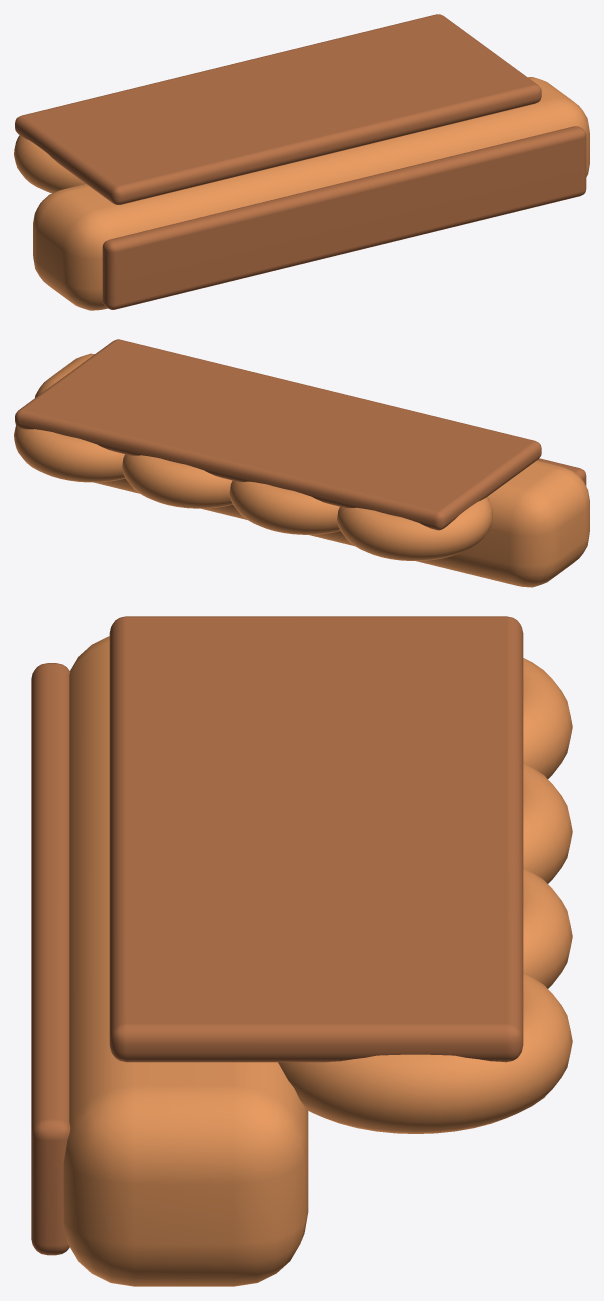
The model's file is Knuckles_Bronze.glb.
3 views of the same model, one above another, from view 1: azimuth 30°, elevation 25°; view 2: azimuth 150°, elevation 25°; view 3: azimuth 270°, elevation 25° (orthographic). The views are drawn at different scales.
Visible parts, largest first — view 1: Bronze_CopperDark, Bronze_Copper; view 2: Bronze_CopperDark, Bronze_Copper; view 3: Bronze_CopperDark, Bronze_Copper.
Part boxes in pixels (box(x1,y1,x2,y2)): Bronze_CopperDark: box(15, 14, 586, 309); Bronze_Copper: box(14, 77, 589, 310); Bronze_CopperDark: box(15, 339, 586, 530); Bronze_Copper: box(14, 353, 589, 587); Bronze_CopperDark: box(31, 616, 523, 1255); Bronze_Copper: box(63, 636, 572, 1286).
Bounding box in the file's own units: 1.46 × 0.315 × 0.655.
